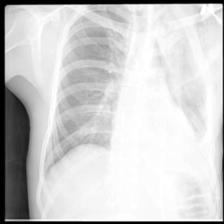tuberculosis: (36, 3, 222, 218)
